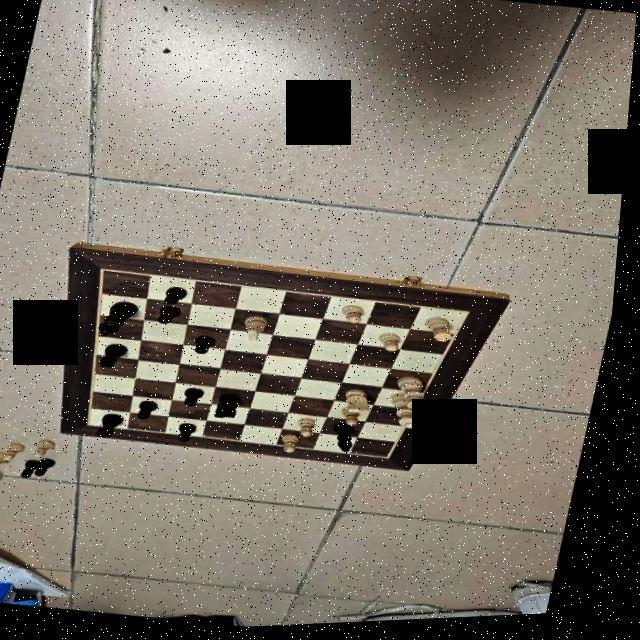chess-table-corners: (101, 268, 116, 276), (90, 422, 104, 430), (391, 459, 402, 465), (468, 314, 478, 320)
